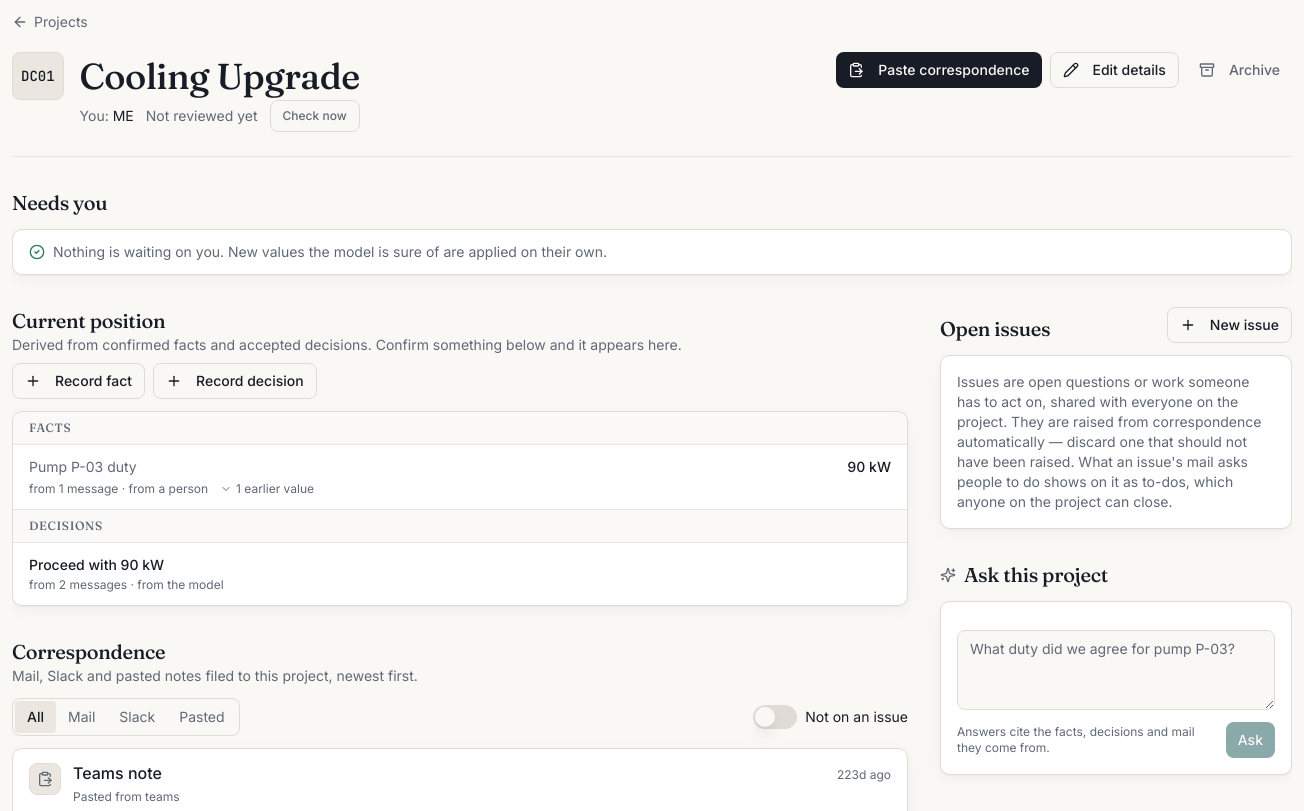
Project workspace UI › shows the current position up front, with where it came from and its history
The width and height of the screenshot is (1304, 811).
Expected: the element "Current position" shows "90 kW", [847,458,891,475]
Expected: the element "Current position" shows "Pump P-03 duty", [29,458,137,475]
Click the button "1 earlier value": (267, 489) [220,481,314,497]
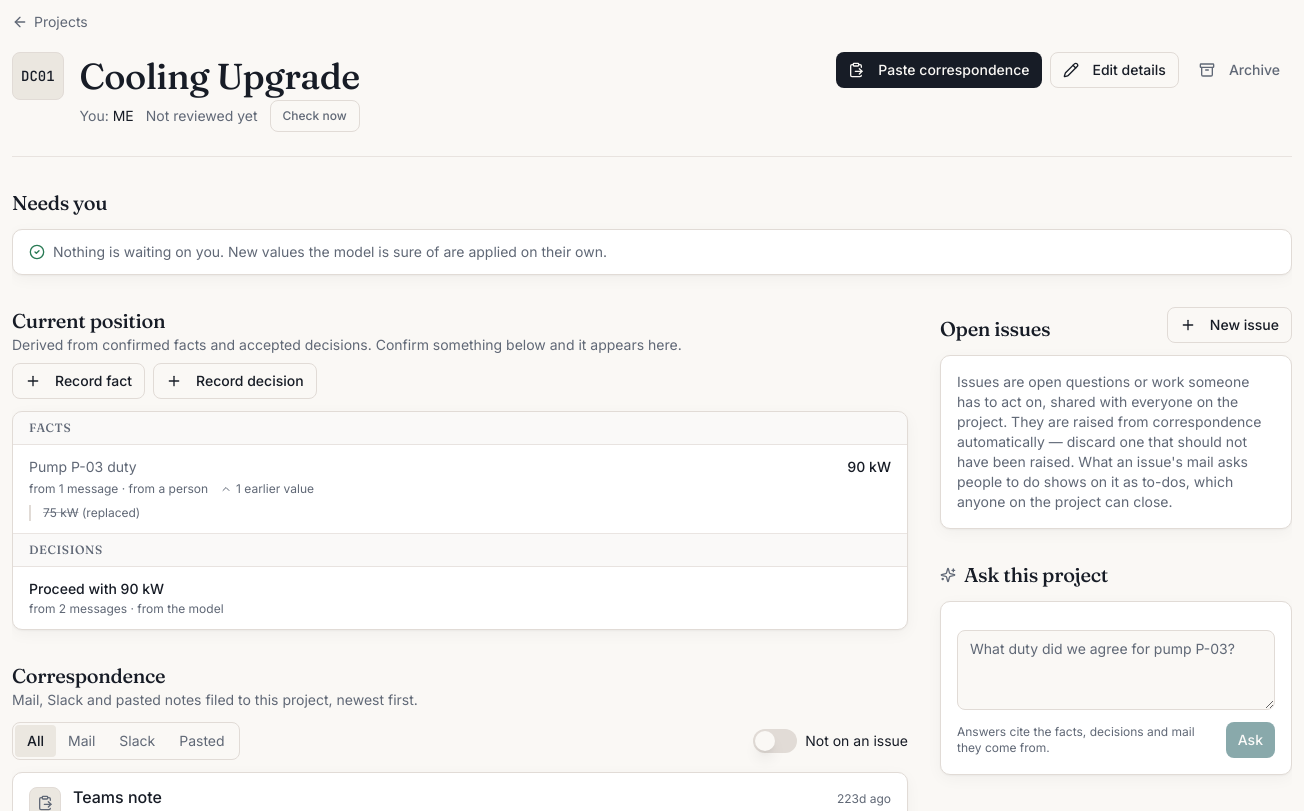
Expected: the text "75 kW" is shown, [43,505,79,520]
